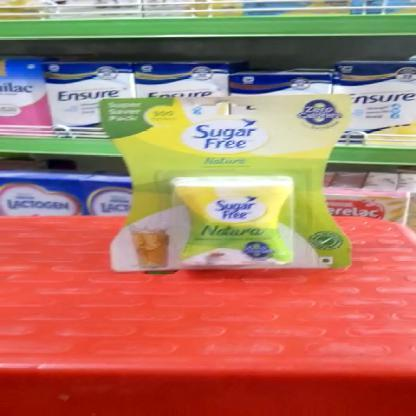SUGAR FREE NATURA 500 PELLET: (104, 97, 352, 272)
